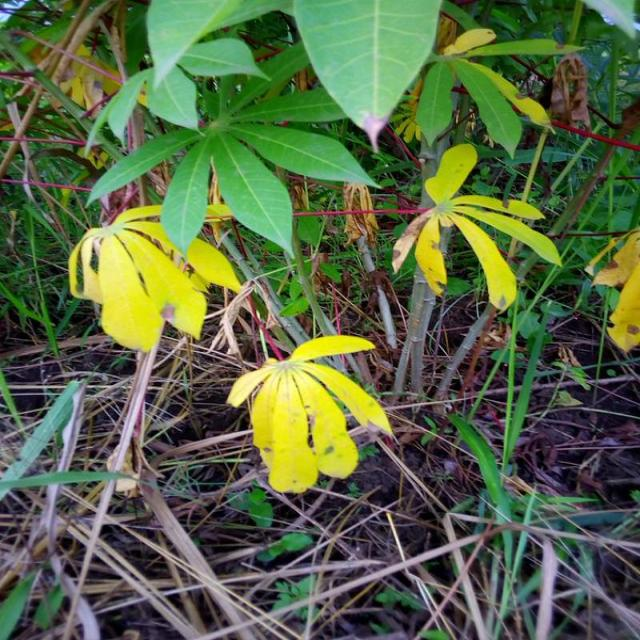cassava leaf: (391, 142, 562, 311), (225, 332, 392, 494), (67, 203, 241, 353), (292, 0, 441, 150)
